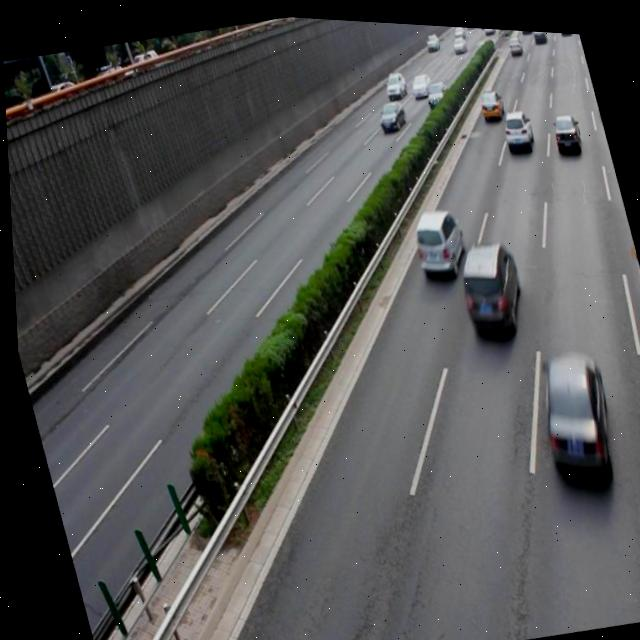car: (520, 337, 620, 479), (444, 228, 528, 334), (403, 196, 468, 277), (496, 100, 535, 149), (547, 102, 583, 150)
truck: (620, 229, 640, 333)
